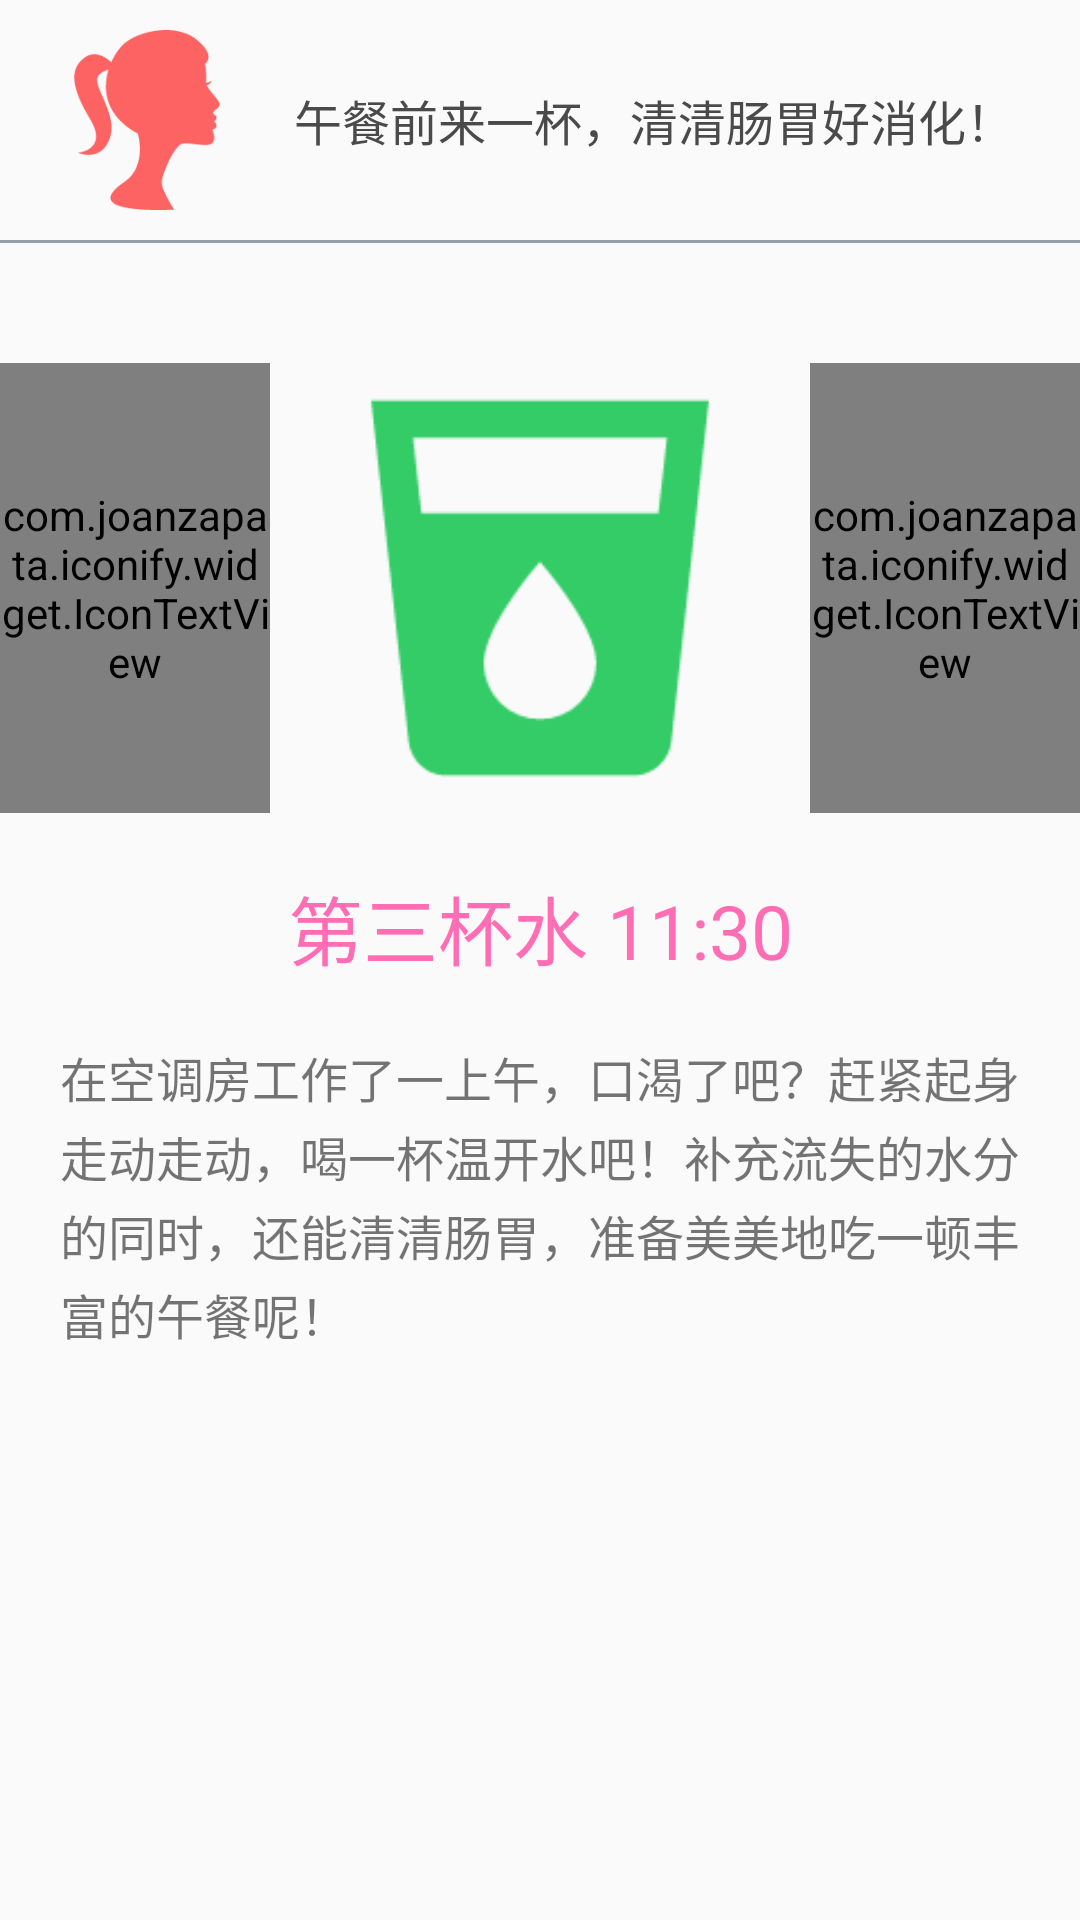

Screen size 1080w x 1920h. Icon name, then its box in pixels as (x1, y1, x2, y2):
girl: (74, 30, 220, 210)
